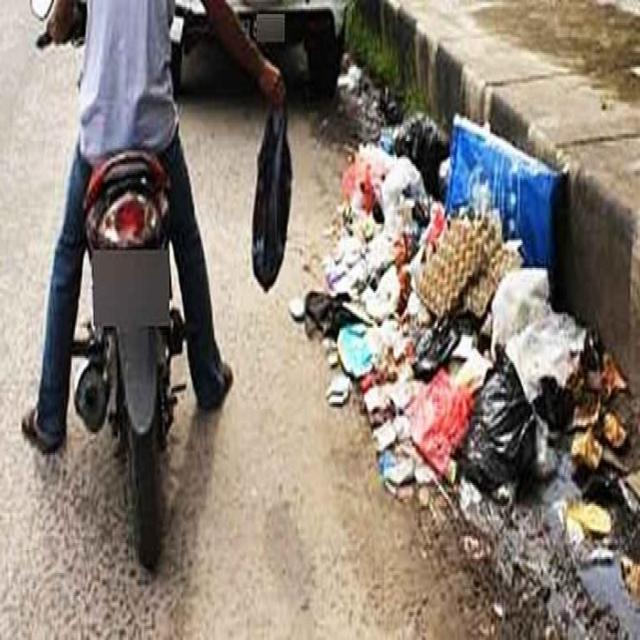Vinyl: (452, 342, 540, 507), (250, 81, 296, 300)
